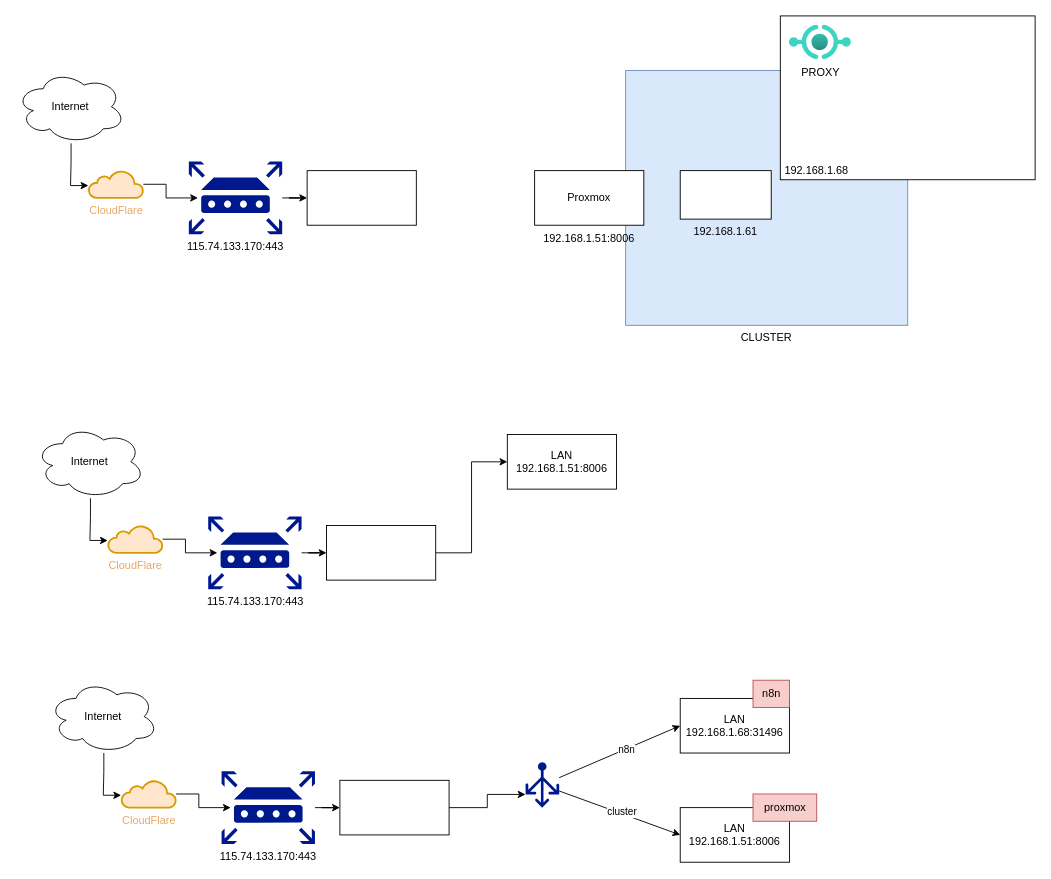
Image size: 1051x879. Some labels were removed from this diagram. The shapes that lost their labels are listed below. From the top down, each one's box as (x1, y1, x2, y2) in pixels, then its label:
(779, 15, 1035, 180): WORKER-1
(306, 170, 416, 225): PortForwarding: 32889
(679, 170, 771, 219): CONTROL-PLAN
(326, 525, 436, 580): PortForwarding: 443 -> 8006
(525, 762, 559, 807): LB 8099
(339, 779, 449, 835): PortForwarding: 443 -> 8099
